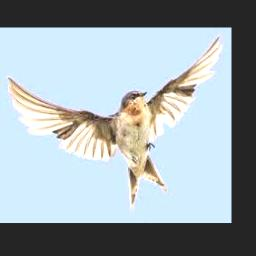Swallow: (6, 34, 222, 212)
